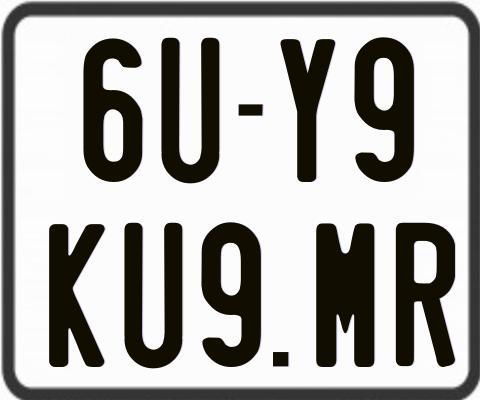6: (82, 37, 143, 184)
9: (354, 34, 416, 184), (200, 219, 261, 369)
K: (49, 224, 109, 371)
M: (314, 221, 378, 365)
R: (393, 221, 455, 367)
U: (124, 223, 187, 374), (159, 38, 223, 185)
Y: (280, 39, 334, 185)
